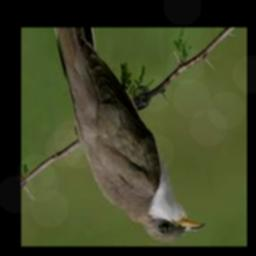Cuckoo: (53, 27, 205, 241)
